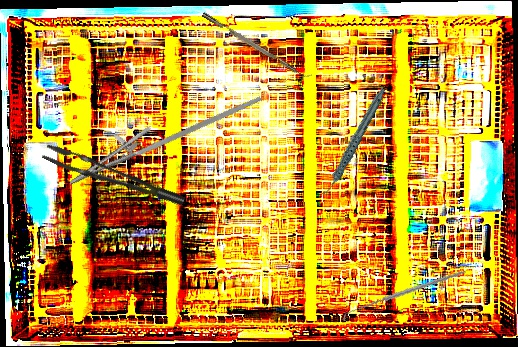Chopper: (201, 6, 314, 83)
Handpiece: (301, 87, 406, 197)
Hook Surgical: (343, 249, 466, 342)
Needle Holder: (60, 60, 263, 208)
Tissue Forceps: (41, 131, 186, 224)
